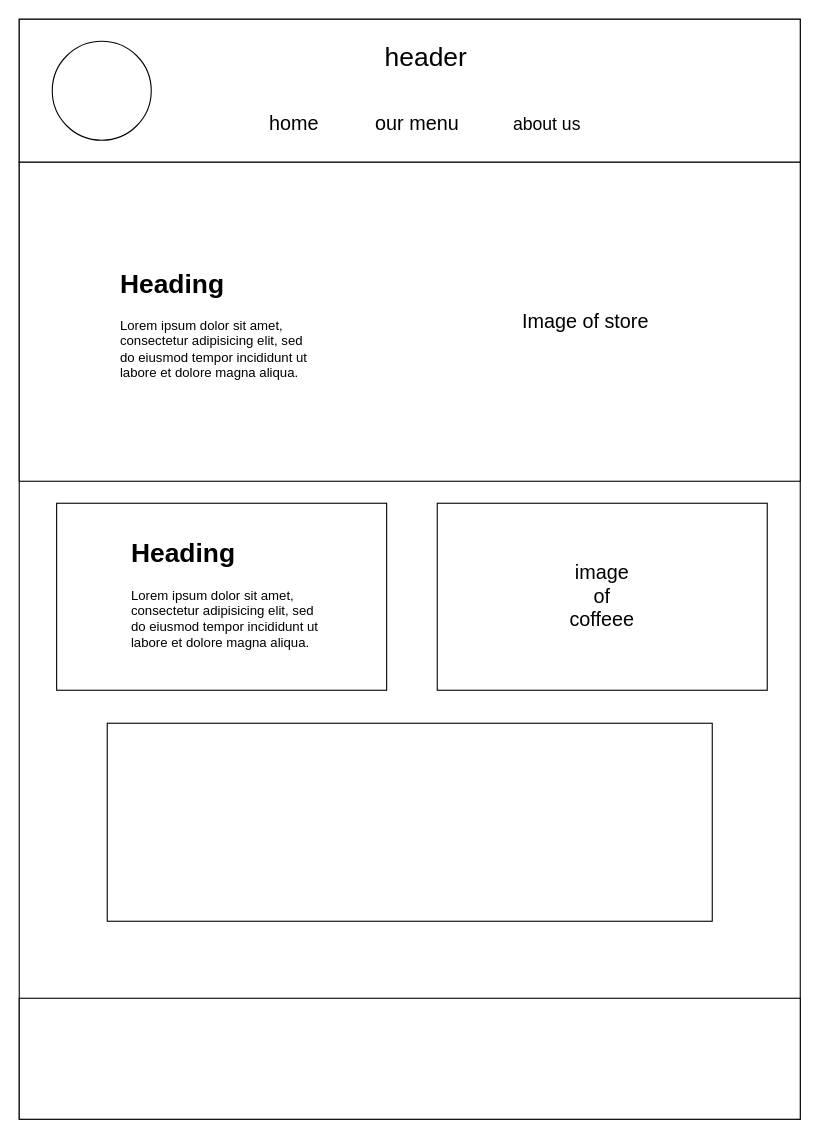
Image size: 820x1139. Some labels were removed from this diagram. Each missing label, with the centre of its shape:
footer with media links: the point at 409,1058
reveiws and quotes section: the point at 409,821
